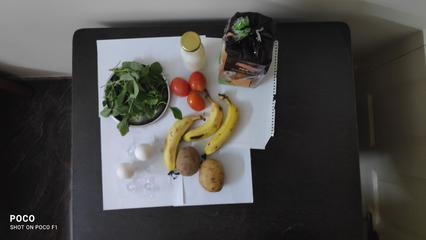banana: (194, 105, 250, 154), (165, 116, 188, 174)
bread: (221, 15, 273, 91)
eggs: (119, 139, 156, 188)
milk: (180, 31, 206, 73)
potato: (178, 146, 230, 192)
spinach: (114, 76, 165, 122)
